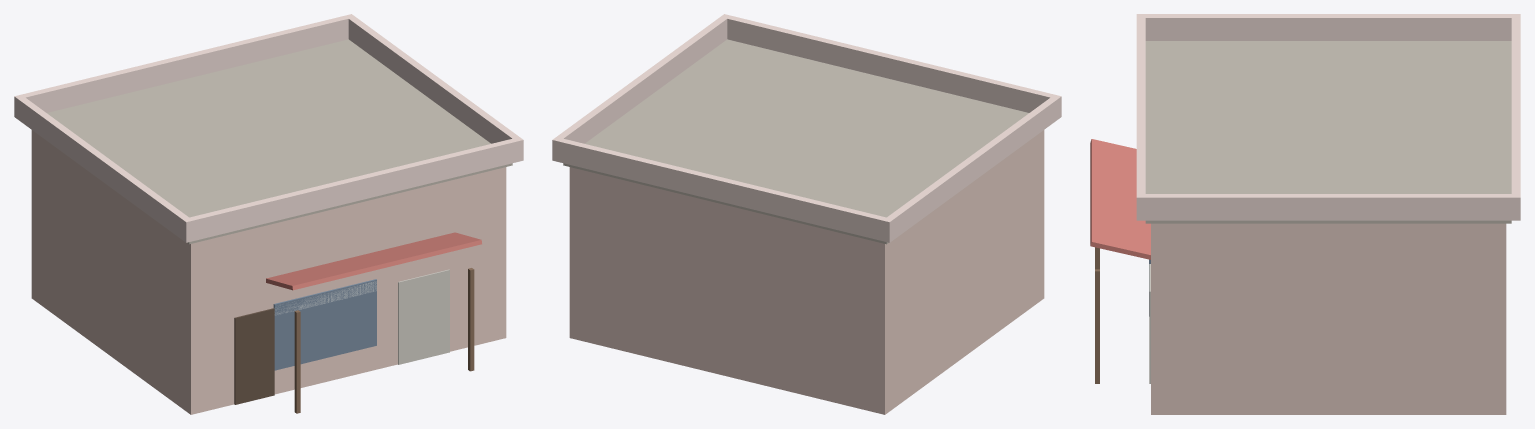
The model's file is shop_rose_rouge.glb.
The picture shows the model from 3 angles, left to right: view 1: azimuth 30°, elevation 25°; view 2: azimuth 150°, elevation 25°; view 3: azimuth 270°, elevation 25°; orthographic projection. The views are drawn at different scales.
Visible parts, largest first — view 1: shopB_mur, shopB_dalle, shopB_p1, shopB_p2, shopB_vitrine, shopB_p4, shopB_p3, shopB_volet, shopB_store, shopB_porte, shopB_reflet, shopB_pot2 (+1 smaller); view 2: shopB_mur, shopB_dalle, shopB_p2, shopB_p1, shopB_p4, shopB_p3; view 3: shopB_mur, shopB_dalle, shopB_p3, shopB_p4, shopB_store, shopB_p1, shopB_p2, shopB_pot2.
Boxes of the visible parts, x1,y1,x2,y2 form: shopB_mur: (31,130,506,414); shopB_dalle: (47,39,512,244); shopB_p1: (182,137,523,242); shopB_p2: (14,14,355,119); shopB_vitrine: (273,279,376,370); shopB_p4: (18,97,188,239); shopB_p3: (348,17,518,143); shopB_volet: (398,269,449,364); shopB_store: (266,232,481,290); shopB_porte: (234,308,274,404); shopB_reflet: (274,281,376,315); shopB_pot2: (468,268,474,371); shopB_mur: (569,130,1044,414); shopB_dalle: (563,39,1028,244); shopB_p2: (552,137,893,242); shopB_p1: (720,14,1061,119); shopB_p4: (887,97,1057,239); shopB_p3: (557,17,727,143); shopB_mur: (1151,223,1506,414); shopB_dalle: (1145,41,1511,223); shopB_p3: (1145,194,1511,220); shopB_p4: (1145,14,1511,40); shopB_store: (1090,139,1150,259); shopB_p1: (1136,14,1145,220); shopB_p2: (1511,14,1520,220); shopB_pot2: (1095,269,1099,383).
Size of the model in its own units: 8.56 by 4.85 by 8.47.
